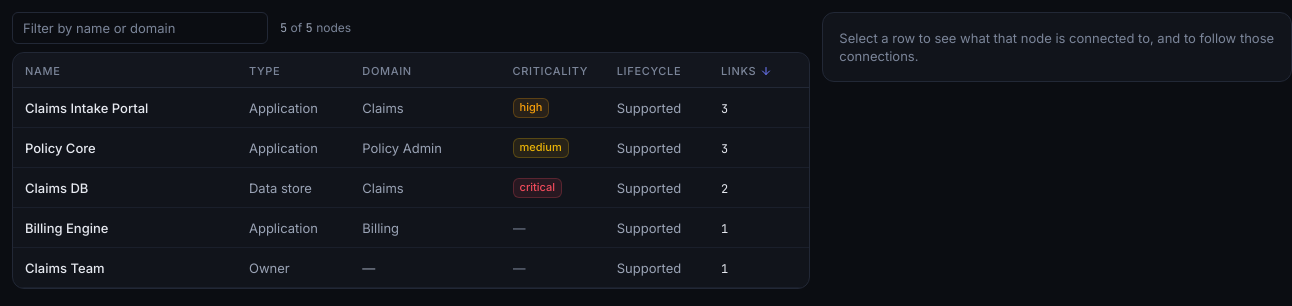
it: NodeTable › filters rows by name
The image size is (1292, 306).
Expected: the text "Billing Engine" is shown, left=25, top=220, right=108, bottom=236
Type "billing" into the field named "filter the table" at (140, 28), box left=12, top=12, right=268, bottom=44
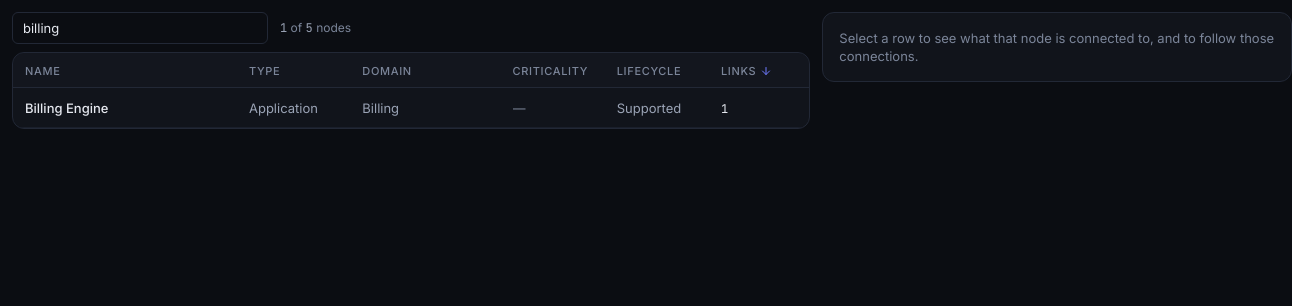
Expected: the text "Billing Engine" is shown, left=25, top=100, right=108, bottom=116
Now the text "Claims Intake Portal" is gone
